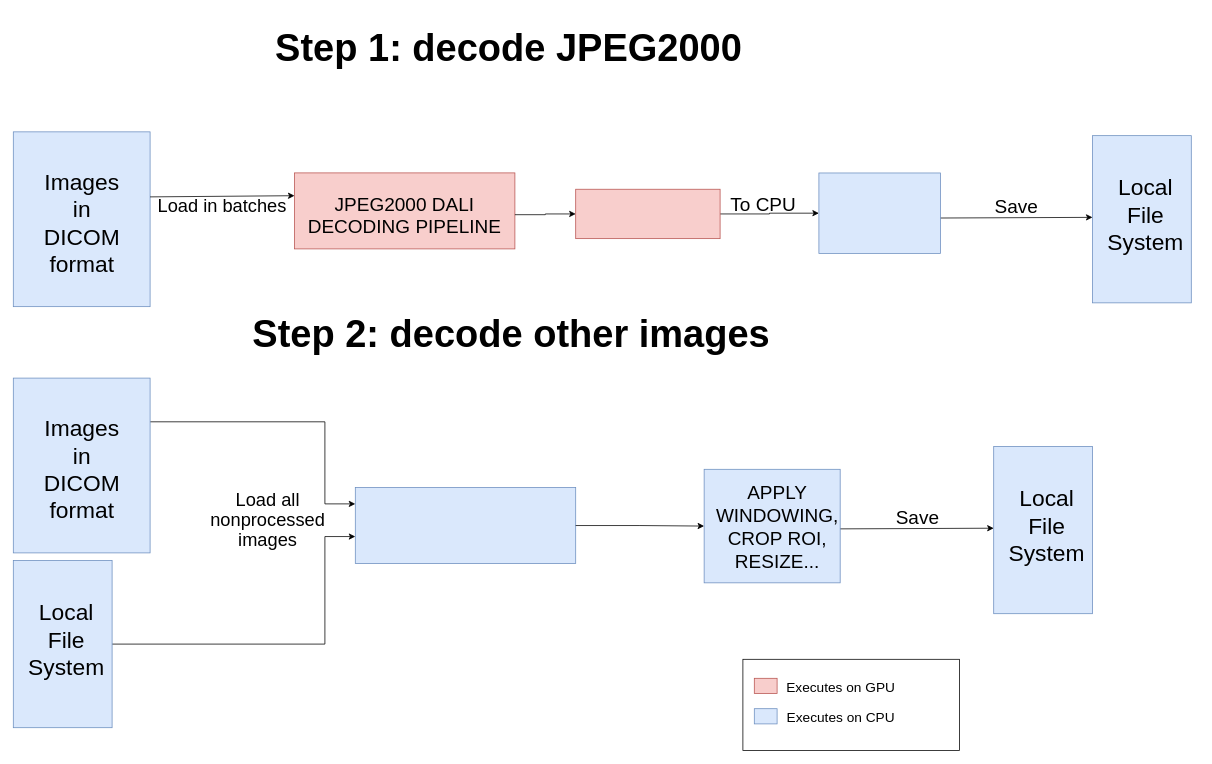
This 1212x764 diagram has some shape labels left out. The shapes that lost their labels are listed below. From the top down, each one's box as (x1, y1, x2, y2) in pixels, then its label:
(575, 188, 720, 239): APPLY WINDOWING
(818, 172, 940, 253): APPLY CROP ROI, RESIZE...
(355, 487, 576, 564): PYDICOM DECODING
